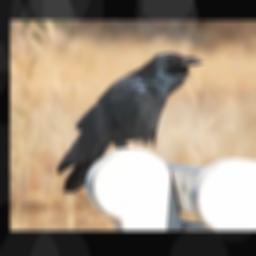Crow: (55, 52, 204, 194)
